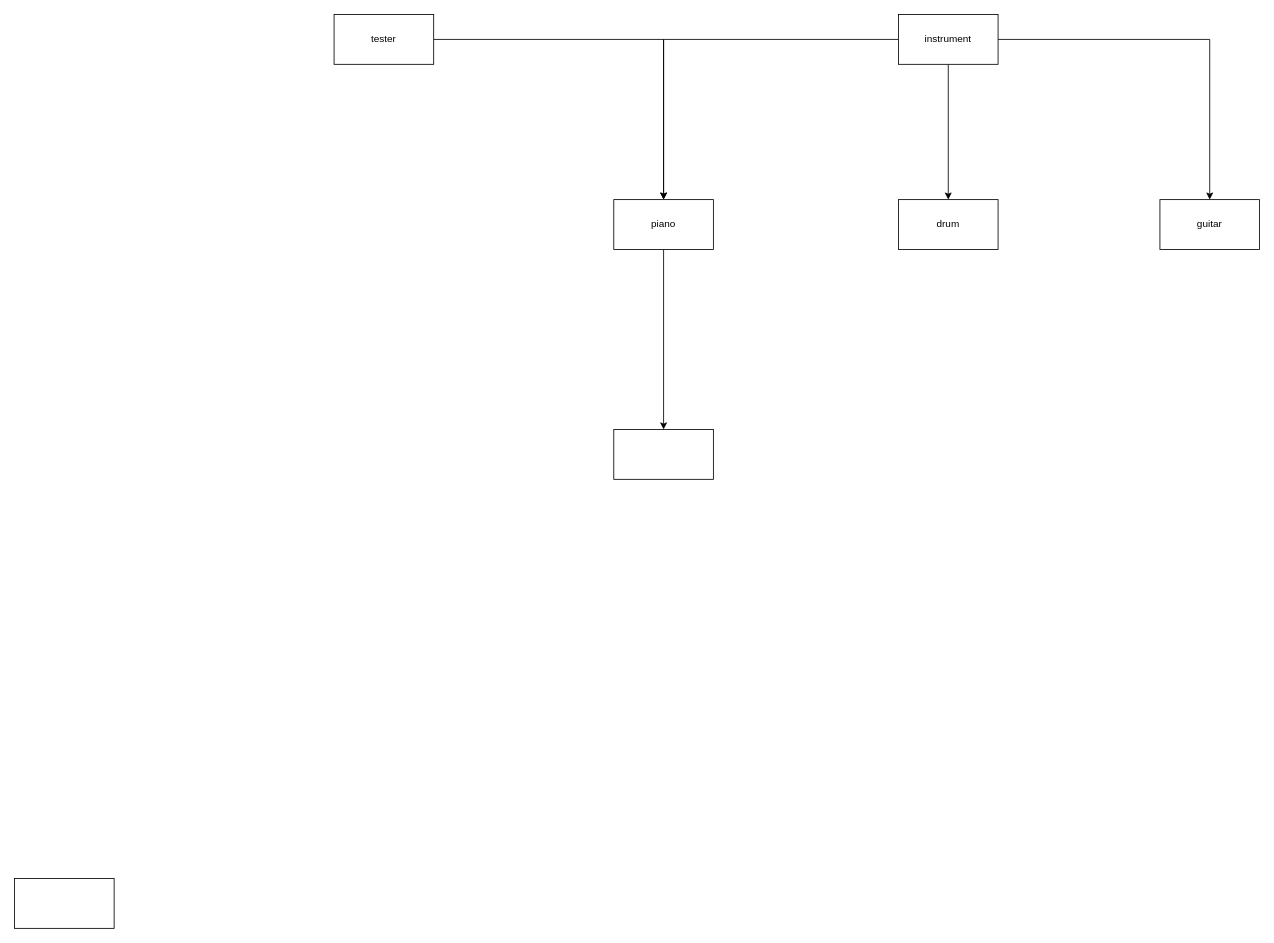
The diagram is 1274 pixels wide and 943 high, and some of its shapes have lost their labels. Here are the shapes that lost their labels. From the top down, the box of each, then its label:
(613, 429, 713, 479): grand piano
(14, 878, 114, 928): firstName
